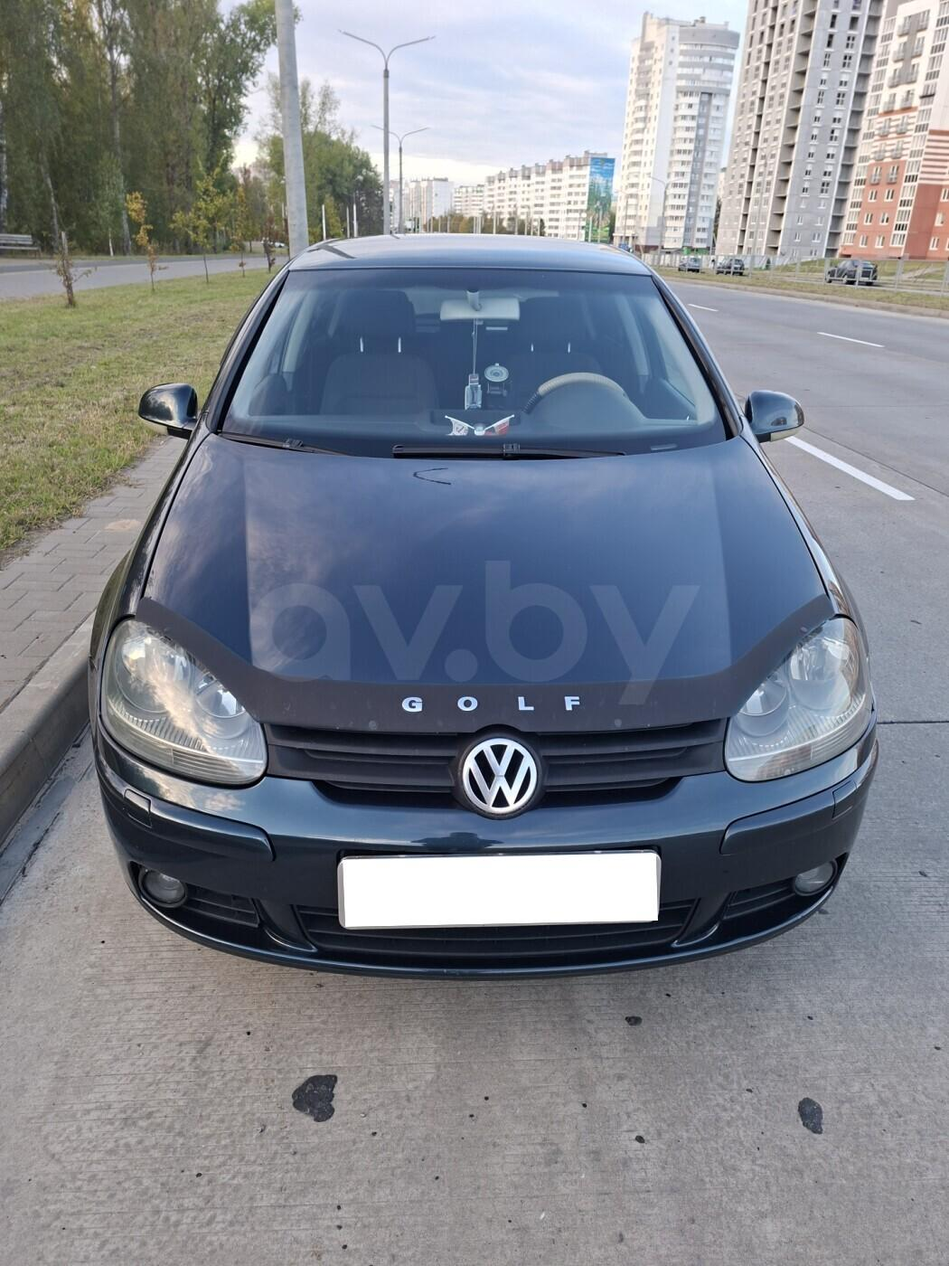Golf_2003-2009: (68, 224, 890, 977)
